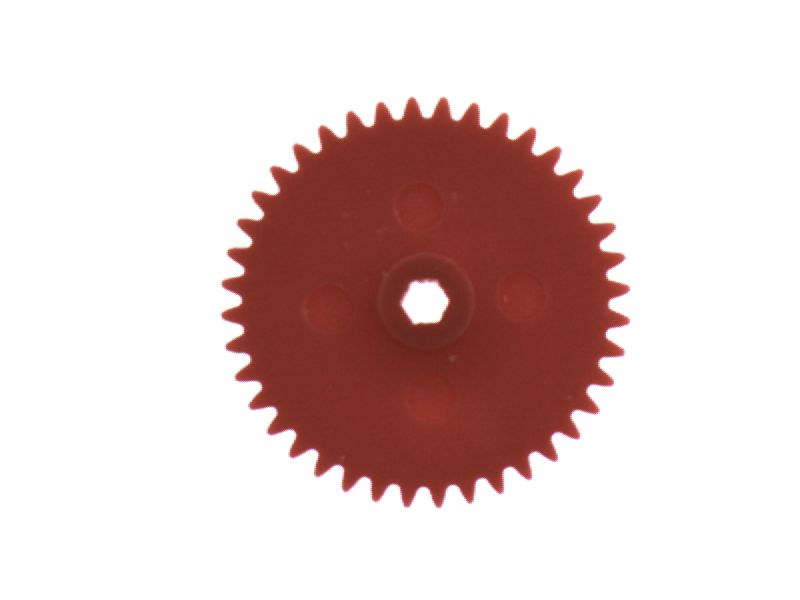good_product: (208, 85, 642, 521)
